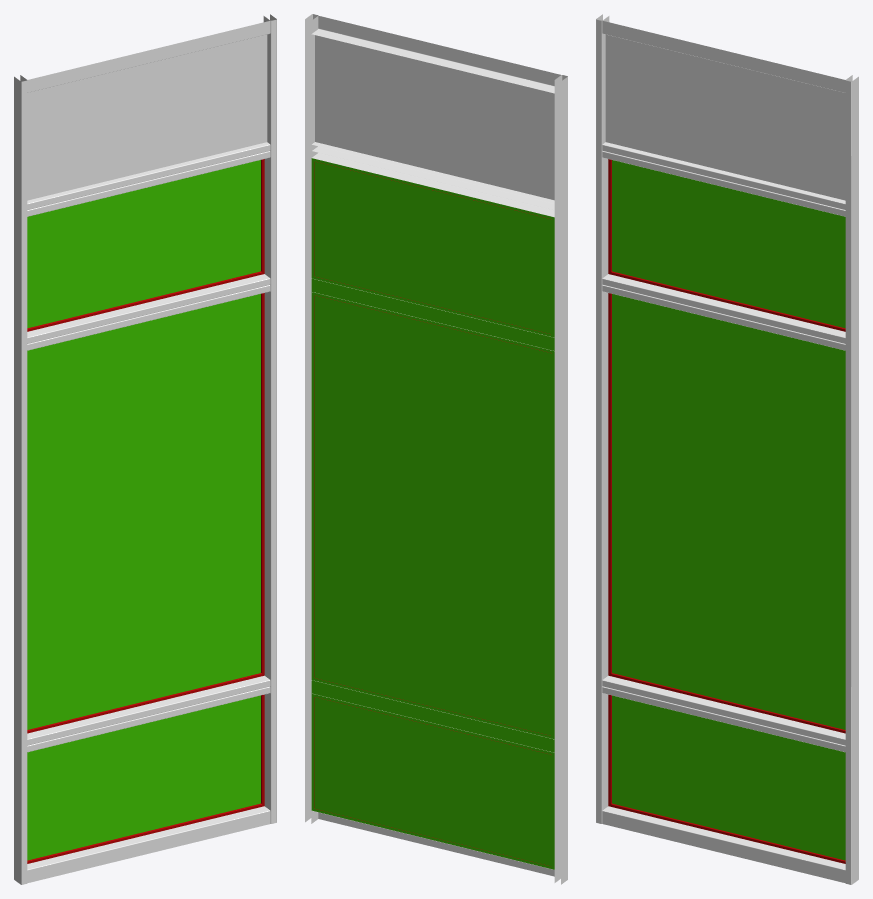
File: Wall04c.fbx
3 views of the same model, side by side, from view 1: azimuth 30°, elevation 25°; view 2: azimuth 150°, elevation 25°; view 3: azimuth 330°, elevation 25° (orthographic).
Visible parts, largest first — view 1: Wall04c; view 2: Wall04c; view 3: Wall04c.
Part boxes in pixels (x1=…): Wall04c: x1=14, y1=14, x2=276, y2=884; Wall04c: x1=305, y1=14, x2=567, y2=884; Wall04c: x1=596, y1=14, x2=858, y2=884.
Bounding box in the file's own units: 100 × 300 × 5.
